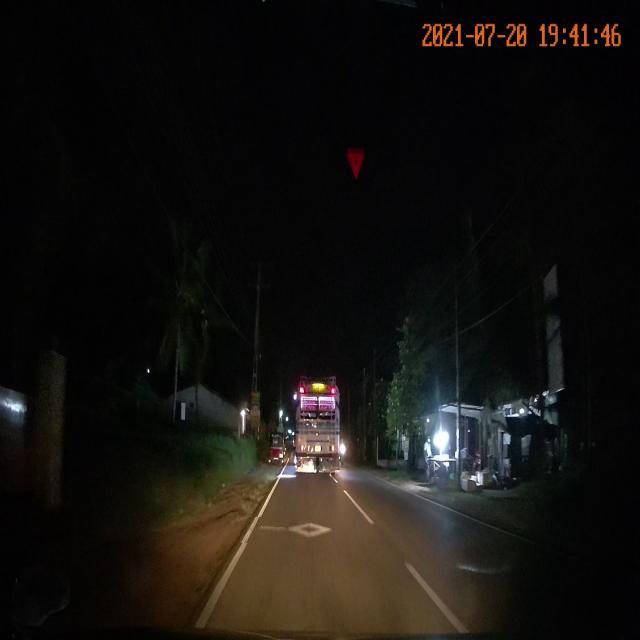diamond: (241, 518, 383, 543)
